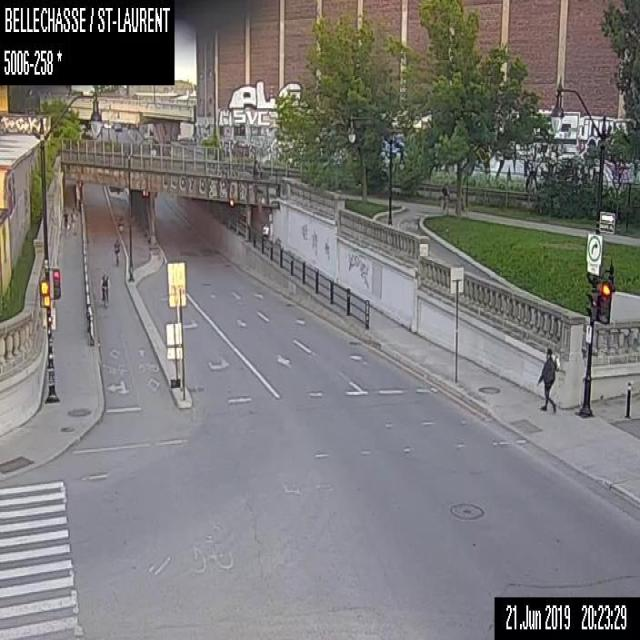cyclist: (99, 270, 109, 306), (113, 236, 120, 267)
pedestrian: (536, 347, 556, 416), (440, 179, 451, 213), (69, 206, 78, 235), (61, 208, 69, 232), (262, 222, 268, 236)
